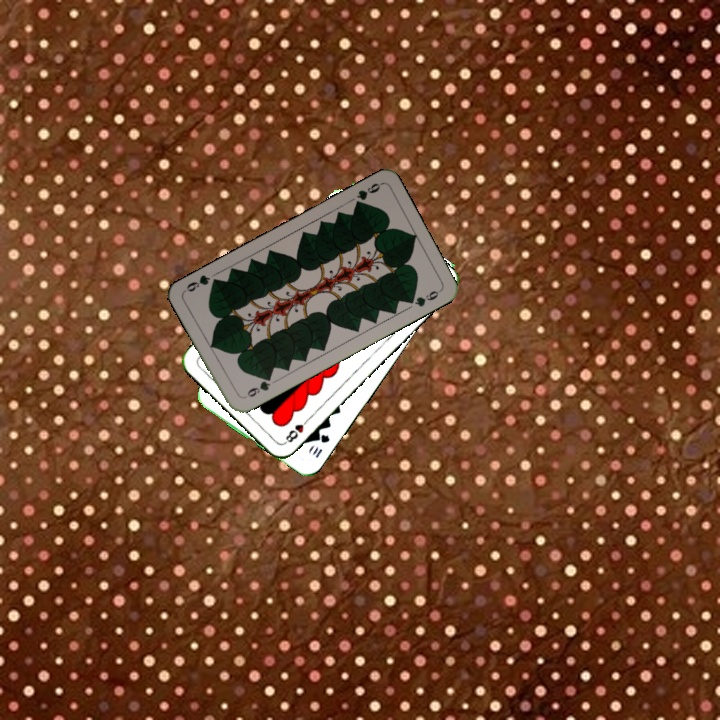G10: (308, 430, 332, 461)
G9: (350, 179, 384, 210), (239, 372, 274, 401)
H8: (280, 414, 312, 447)
